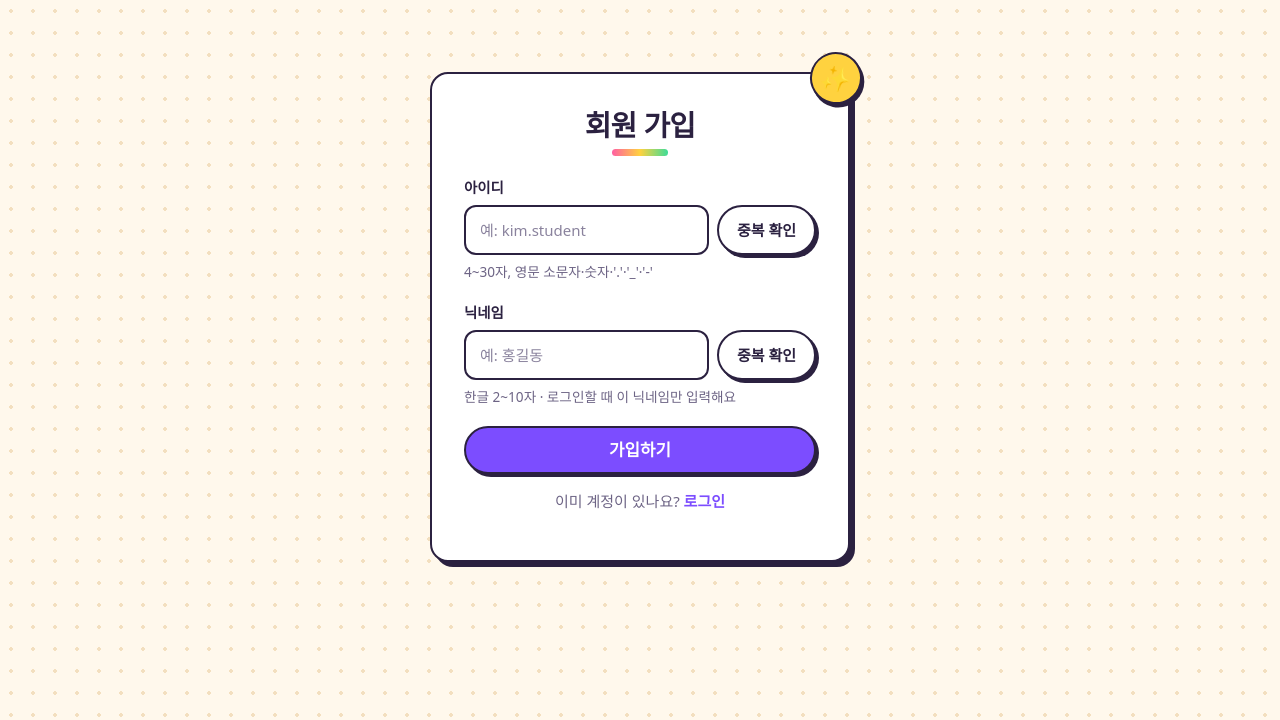
Test: TestSignupPage › reports taken values and resets a check when the value changes
The image size is (1280, 720).
Type "Taken.ID" into the field labelled "아이디" at (586, 230), box [464,206,709,256]
Click the button with aria-label "아이디 중복 확인" at (766, 230), box [717,206,816,256]
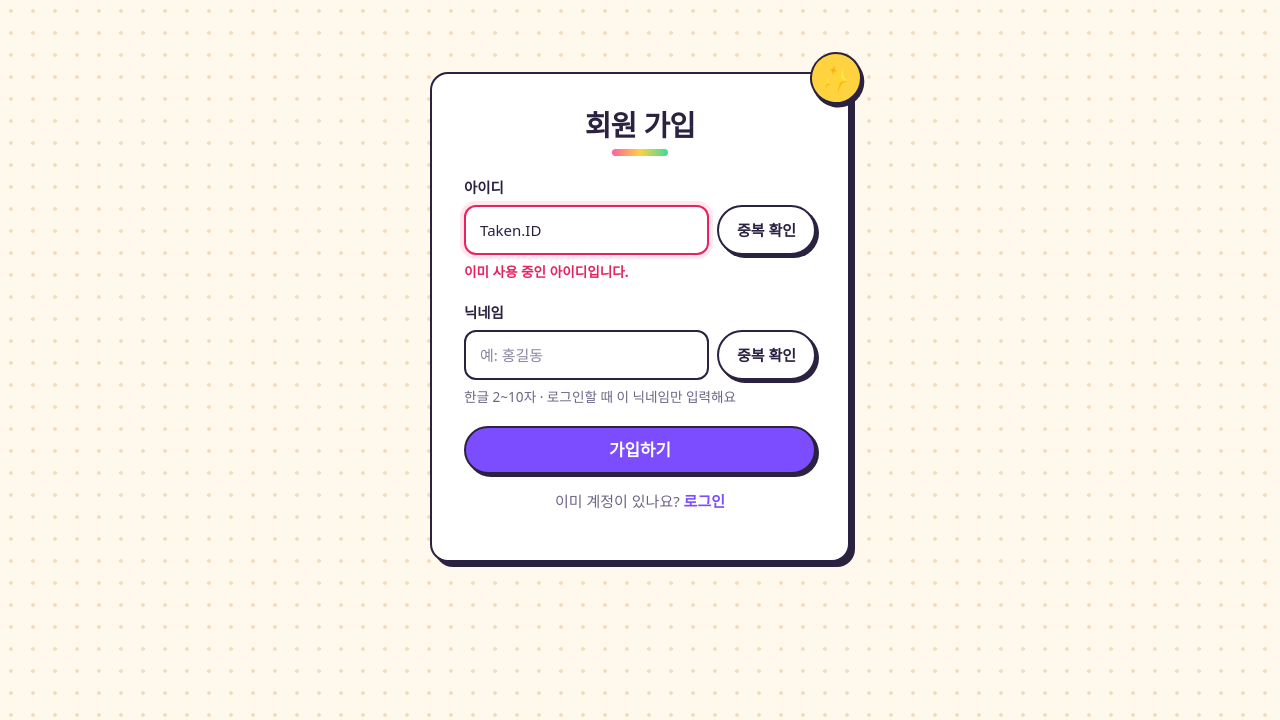
Expected: the text "이미 사용 중인 아이디입니다." is shown, [464,262,629,282]
Type "홍길동" into the field labelled "닉네임" at (586, 355), box [464,330,709,380]
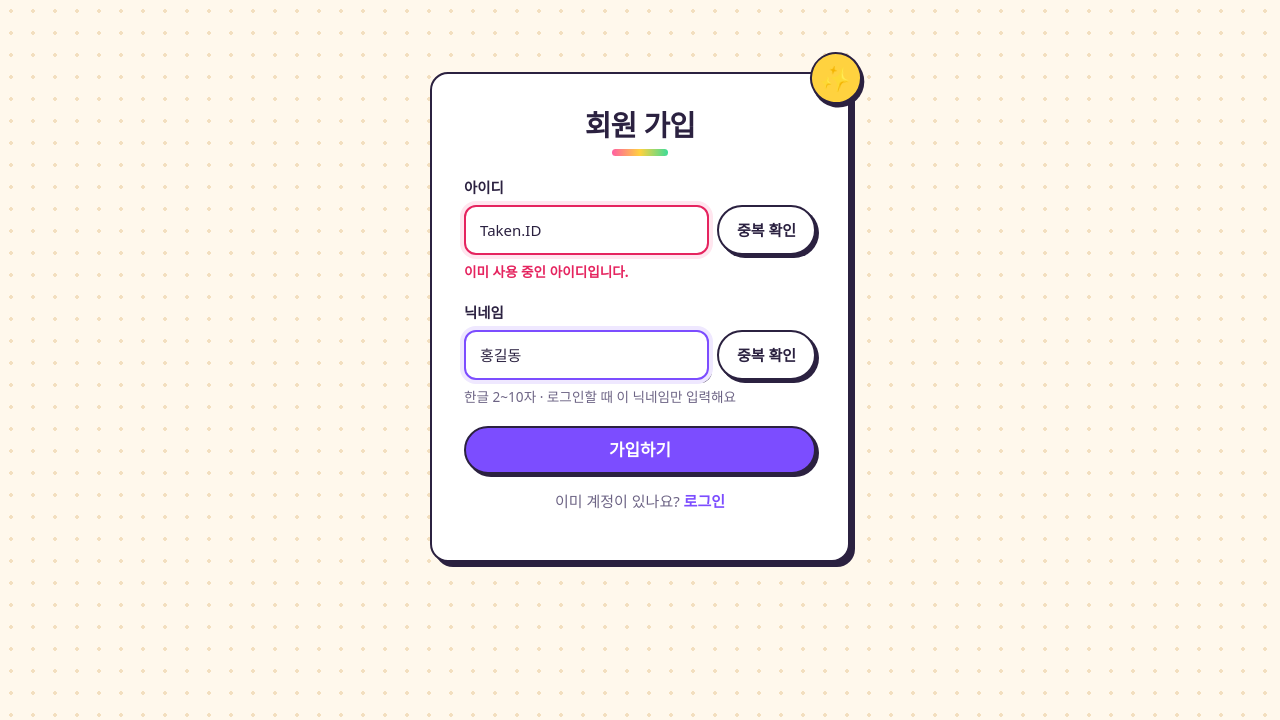
Click the button with aria-label "닉네임 중복 확인" at (766, 355), box [717,330,816,380]
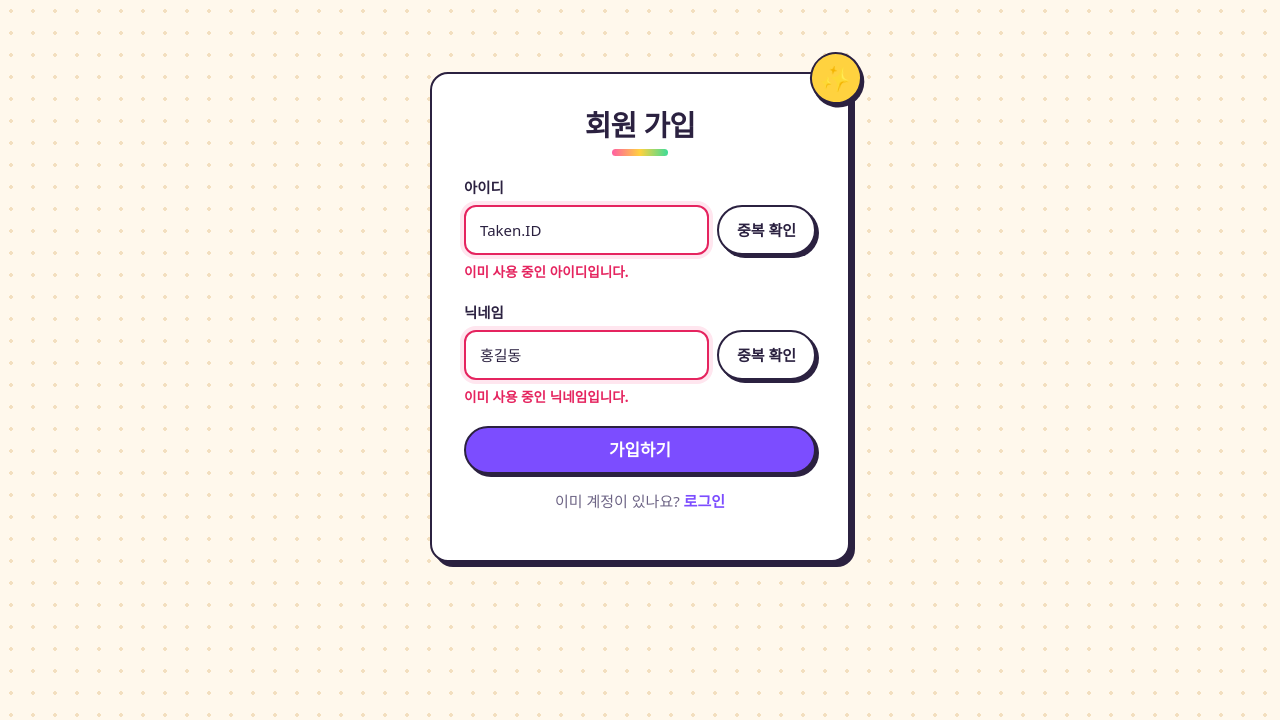
Expected: the text "이미 사용 중인 닉네임입니다." is shown, [464,387,629,406]
Replace the text in the field labelled "닉네임" with "김학생" at (586, 355), box [464,330,709,380]
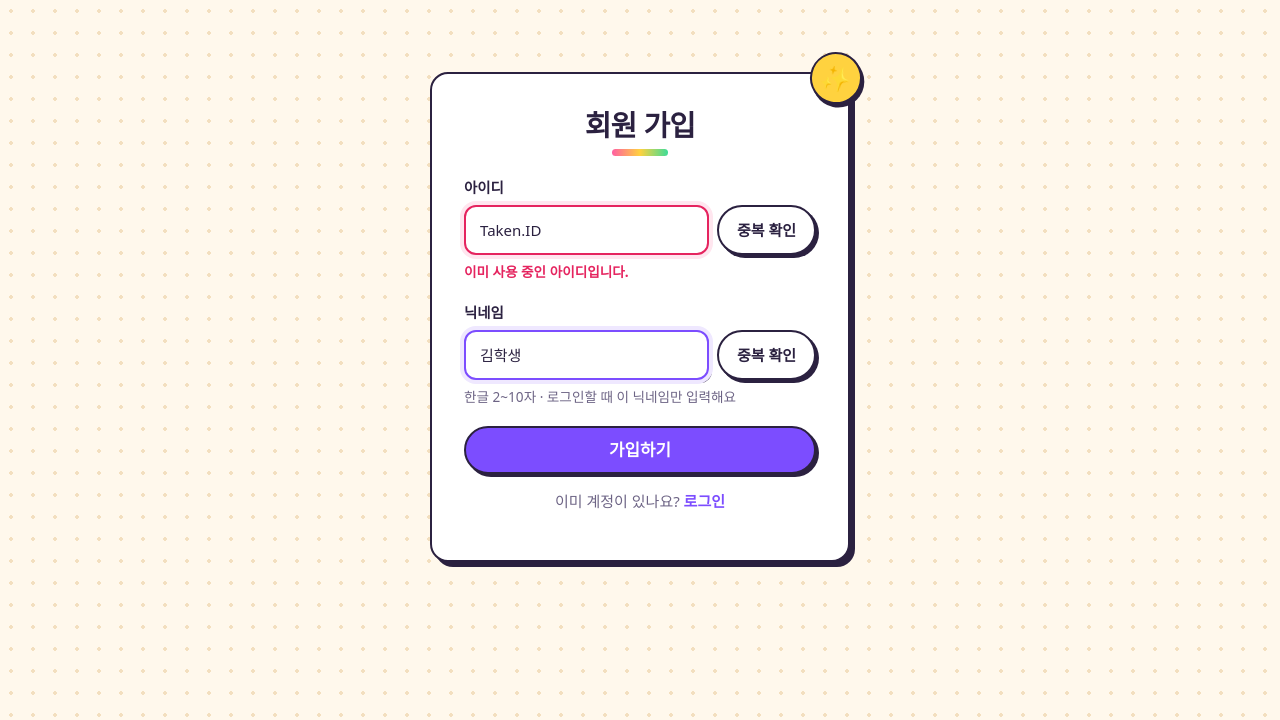
Expected: the text "이미 사용 중인 닉네임입니다." is not shown
Click the button with aria-label "닉네임 중복 확인" at (766, 355), box [717,330,816,380]
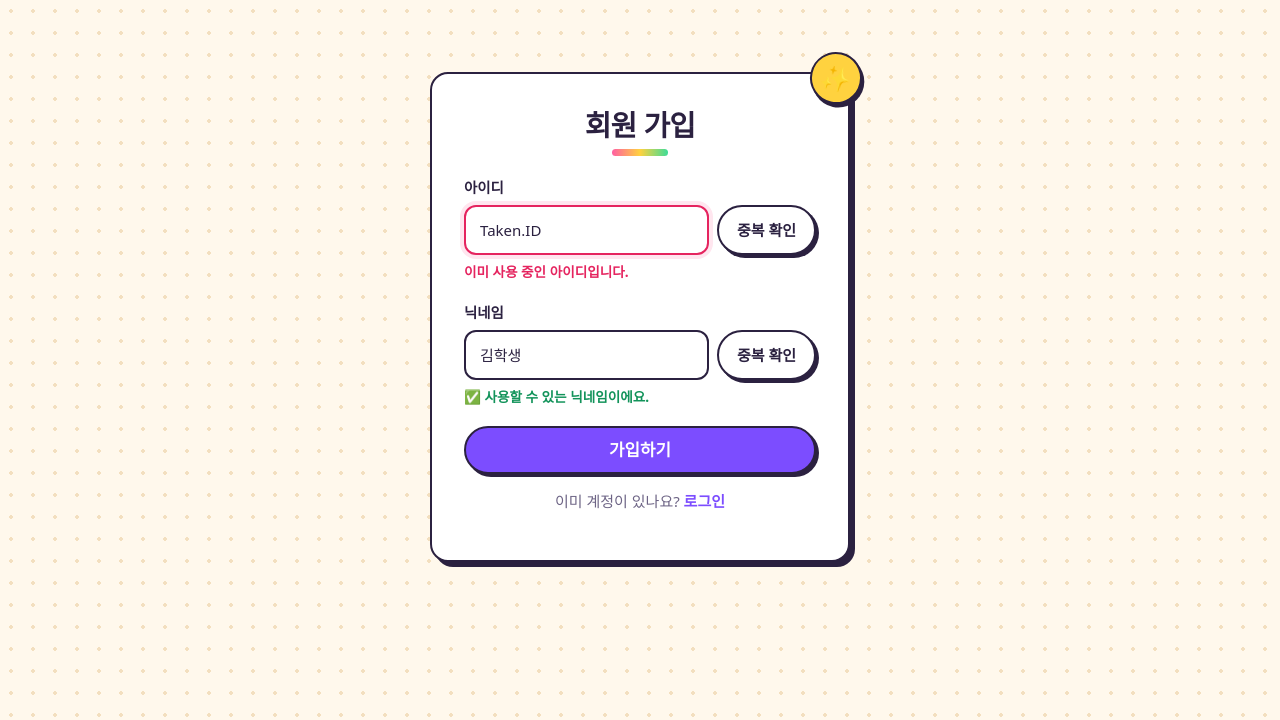
Expected: the text "사용할 수 있는 닉네임이에요." is shown, [484,387,649,406]
Type "이" into the field labelled "닉네임" at (586, 355), box [464,330,709,380]
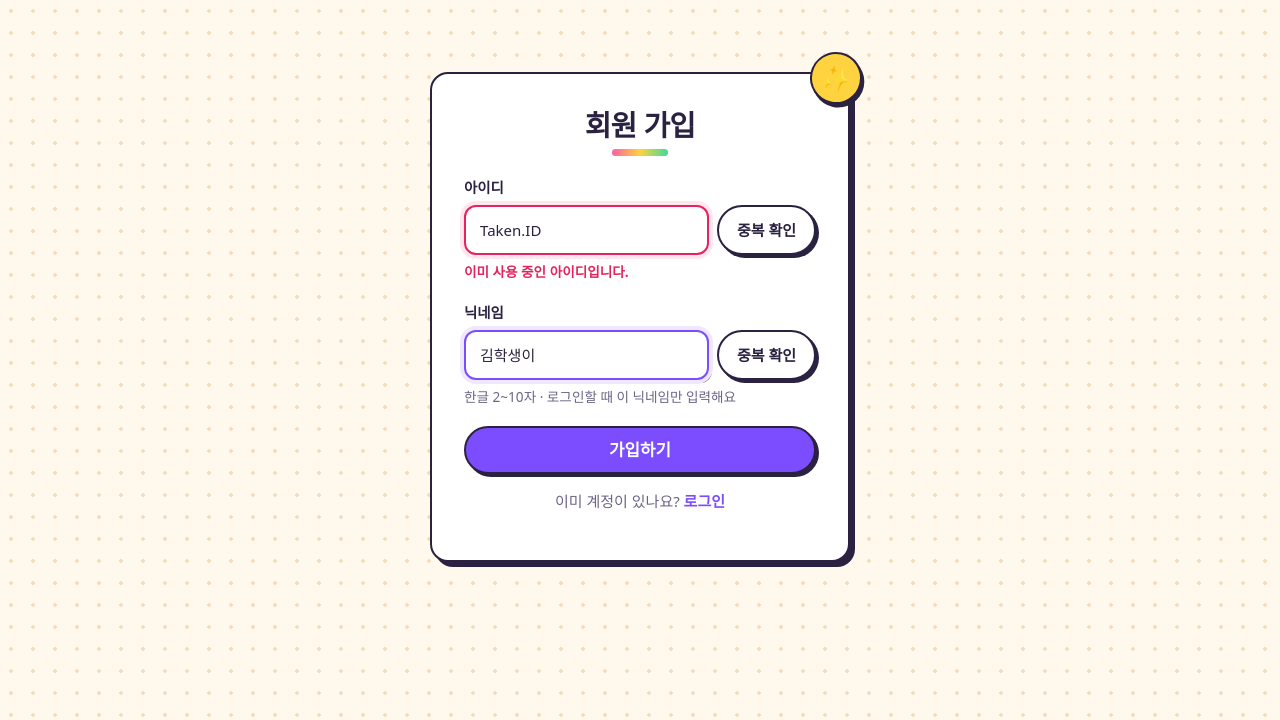
Expected: the text "사용할 수 있는 닉네임이에요." is gone
